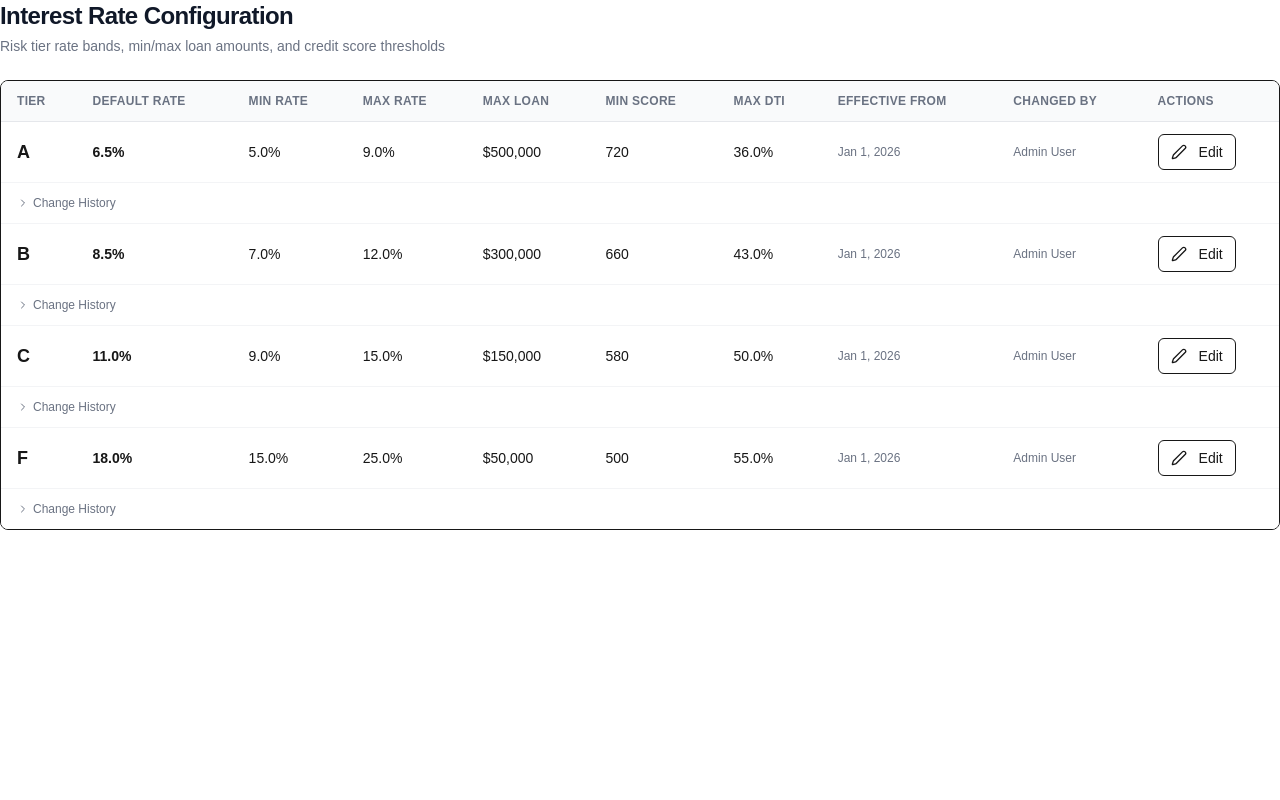
Scenario: InterestRatesPage › edit form for ADMIN › shows confirmation step after clicking Review Changes
Step 1. Click the button "Edit" in the row of "6.5%" → {"x": 1197, "y": 152}, box [1158, 134, 1236, 170]
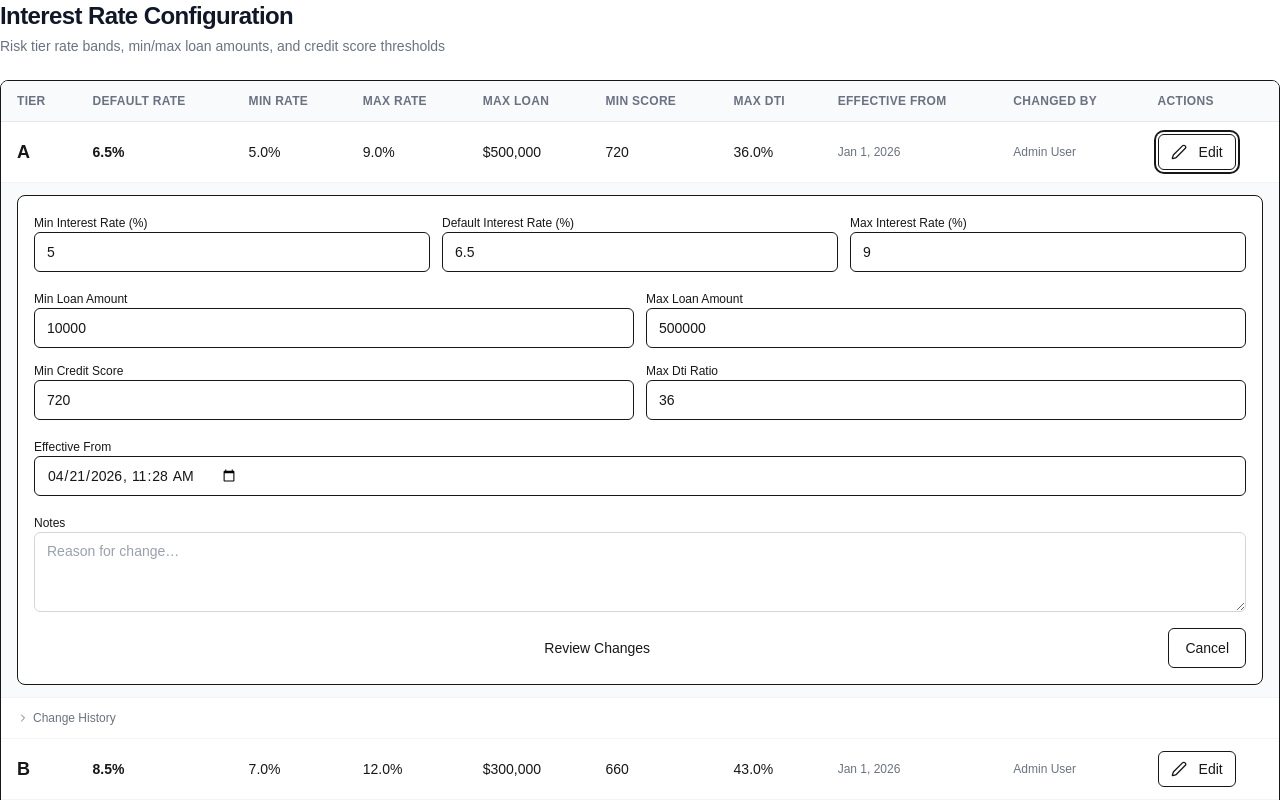
Now the button "Review Changes" is shown
Step 2. Click the button "Review Changes" → {"x": 597, "y": 648}, box [34, 628, 1160, 668]
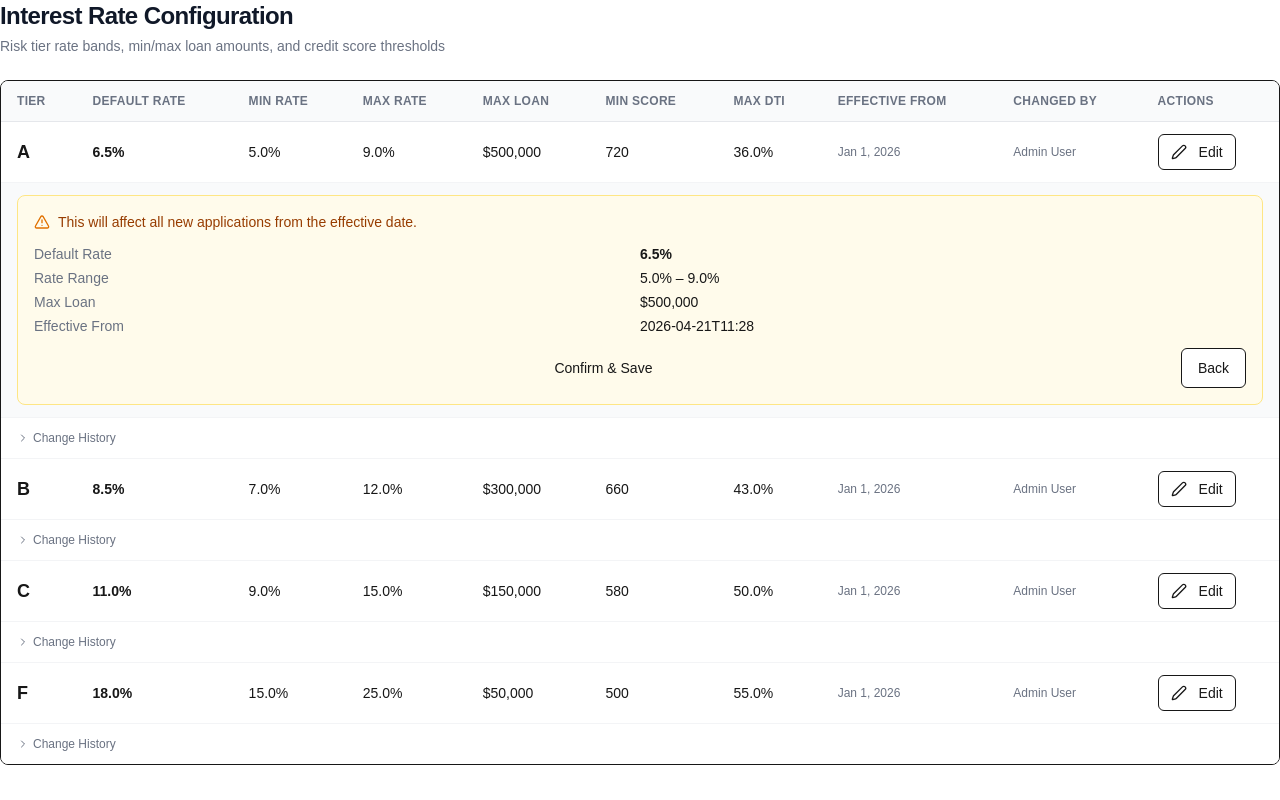
Now the text "This will affect all new applications" is shown, box [58, 214, 417, 230]
Now the button "Confirm & Save" is shown, box [34, 348, 1173, 388]
